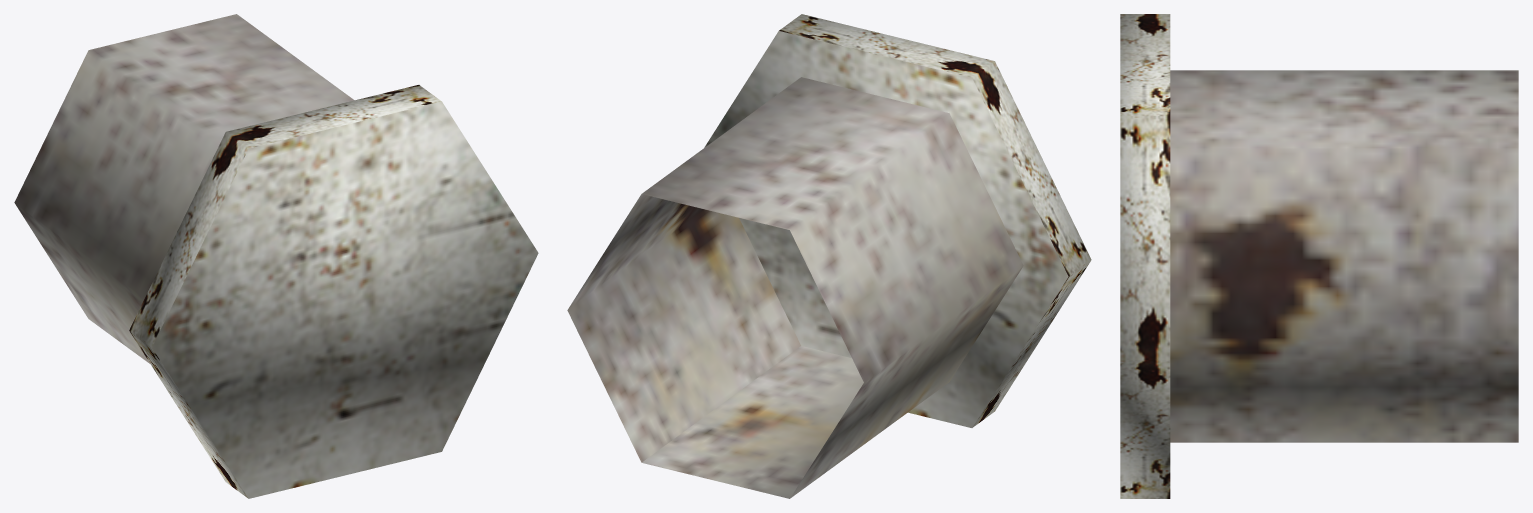
The model's file is large_white_1.fbx.
3 views of the same model, side by side, from view 1: azimuth 30°, elevation 25°; view 2: azimuth 150°, elevation 25°; view 3: azimuth 270°, elevation 25° (orthographic). The views are drawn at different scales.
Parts seen in each view (by area): view 1: polySurface654; view 2: polySurface654; view 3: polySurface654.
Boxes of the visible parts, bbox=[...] form: polySurface654: bbox=[14, 14, 538, 498]; polySurface654: bbox=[567, 14, 1091, 498]; polySurface654: bbox=[1120, 14, 1518, 498].
Bounding box in the file's own units: 1.3 × 1.13 × 1.07.
